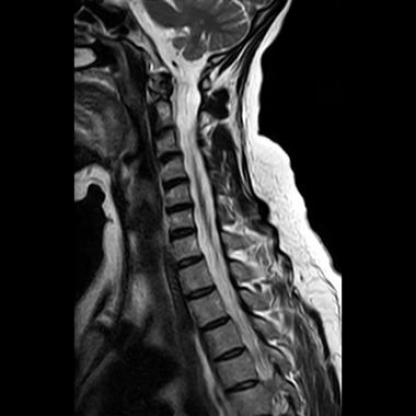Annular Disc Relaxationrotation: (162, 175, 190, 189)
Disc Bulgerotation: (165, 201, 193, 216)
Osteophytesrotation: (165, 201, 193, 216)
